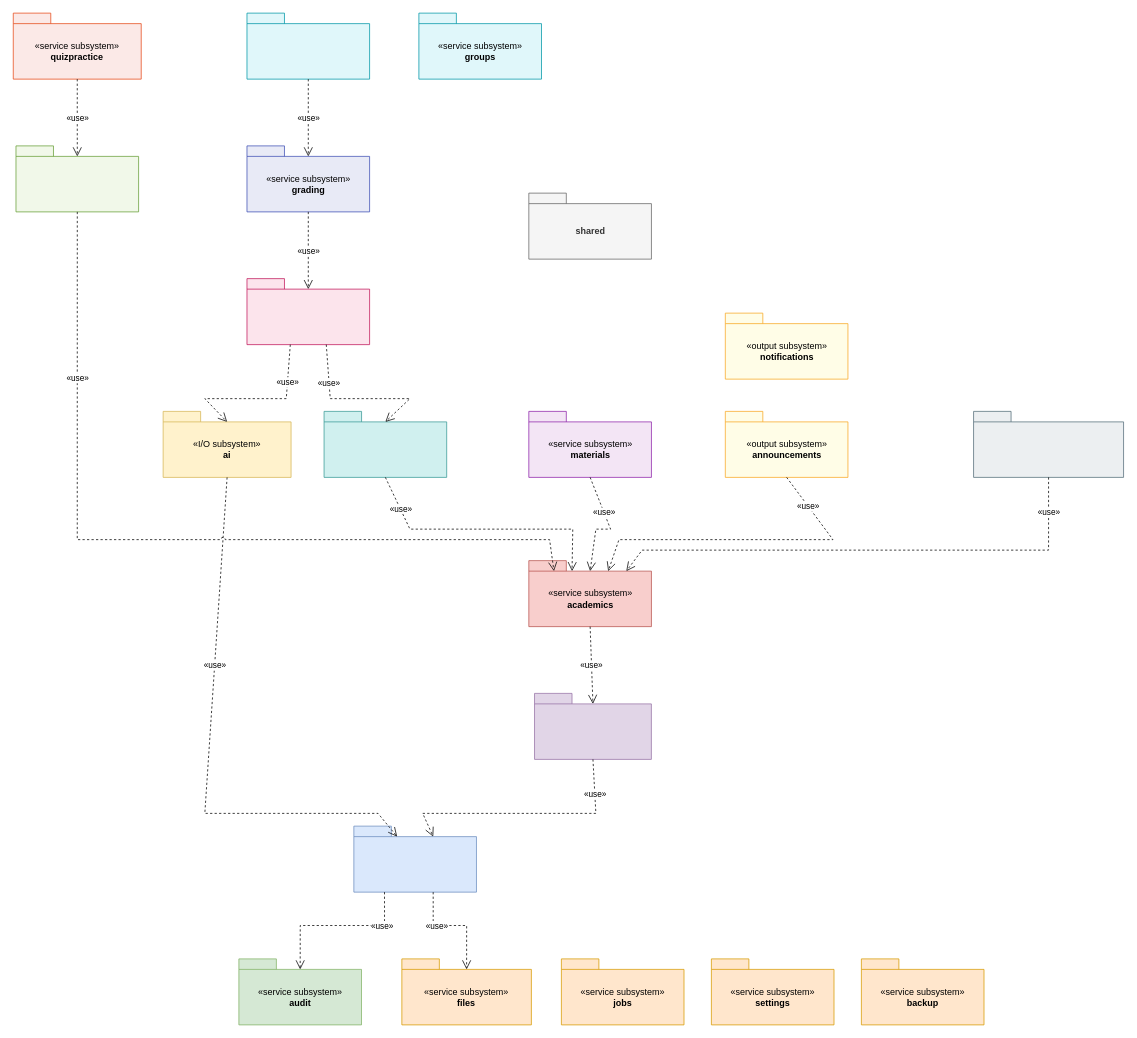
Image size: 1137x1038. Some labels were removed from this diagram. Each missing label, with the box of its shape:
«service subsystem» admindashboard: (973, 411, 1124, 477)
«service subsystem» assignments: (323, 411, 447, 477)
«service subsystem» assignmentwork: (246, 278, 370, 345)
«service subsystem» groupdocs: (246, 12, 370, 79)
«service subsystem» identity: (353, 825, 476, 892)
«service subsystem» quizzes: (15, 145, 139, 212)
«service subsystem» subjects: (534, 693, 651, 759)
